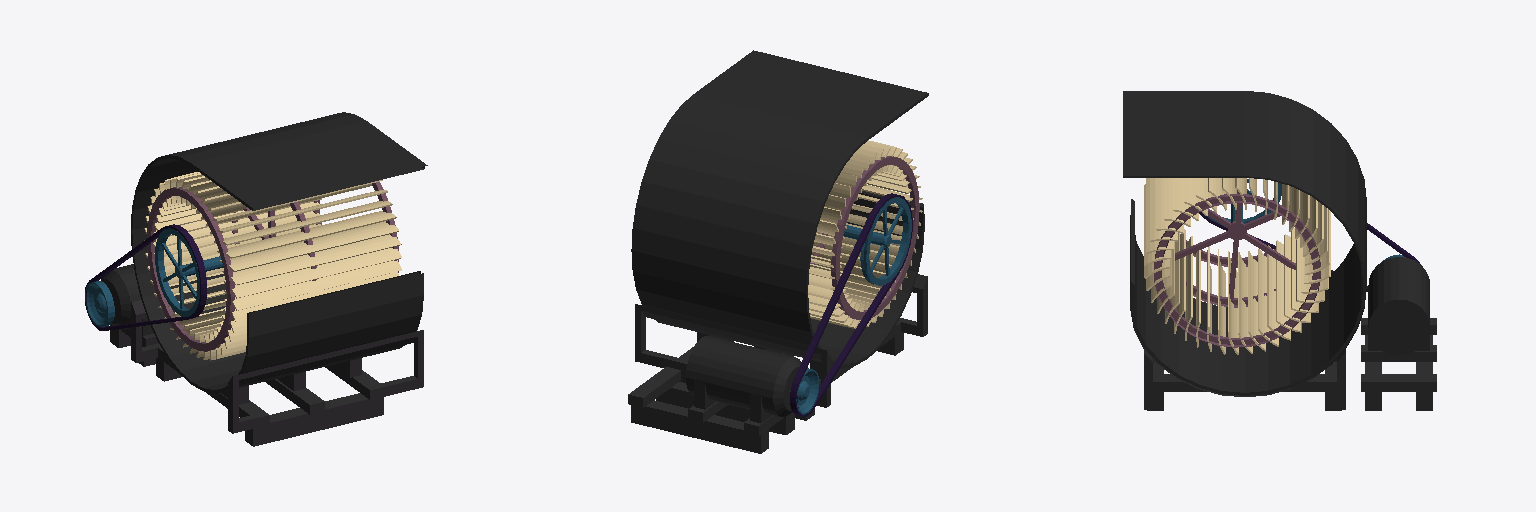
File: fan-z+y.obj
3 renders of one model, left to right at view 1: azimuth 30°, elevation 25°; view 2: azimuth 150°, elevation 25°; view 3: azimuth 270°, elevation 25°, orthographic.
Parts seen in each view (by area): view 1: Fan_FanGeom; view 2: Fan_FanGeom; view 3: Fan_FanGeom.
Part boxes in pixels (x1,y1,x2,y2): Fan_FanGeom: (85, 112, 427, 446); Fan_FanGeom: (628, 50, 928, 453); Fan_FanGeom: (1123, 91, 1436, 410).
Size of the model in its own units: 1.26 by 1.51 by 1.72.